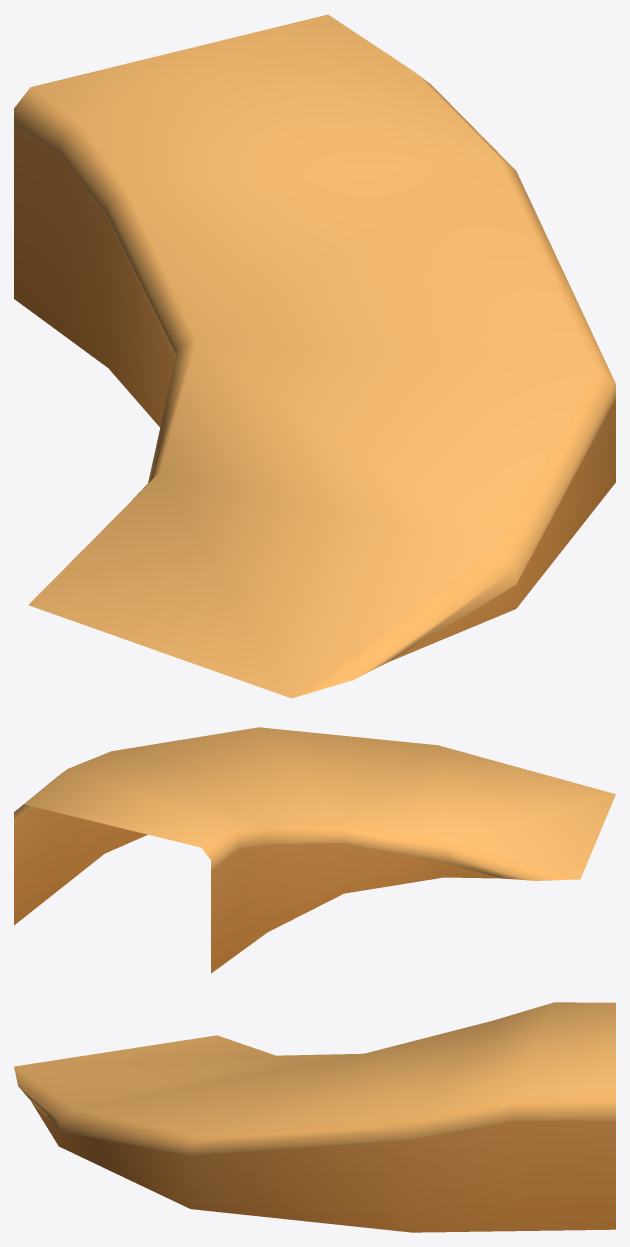
Rendered from Bent Slope 01.FBX.
The picture shows the model from 3 angles, top to bottom: view 1: azimuth 30°, elevation 25°; view 2: azimuth 150°, elevation 25°; view 3: azimuth 270°, elevation 25°; orthographic projection. The views are drawn at different scales.
Parts seen in each view (by area): view 1: Bent Slope 01; view 2: Bent Slope 01; view 3: Bent Slope 01.
Part boxes in pixels (x1=…): Bent Slope 01: x1=14, y1=14, x2=615, y2=698; Bent Slope 01: x1=14, y1=727, x2=615, y2=973; Bent Slope 01: x1=14, y1=1002, x2=615, y2=1232.
Size of the model in its own units: 972 by 300 by 1254.
1 material, 1 textured.
